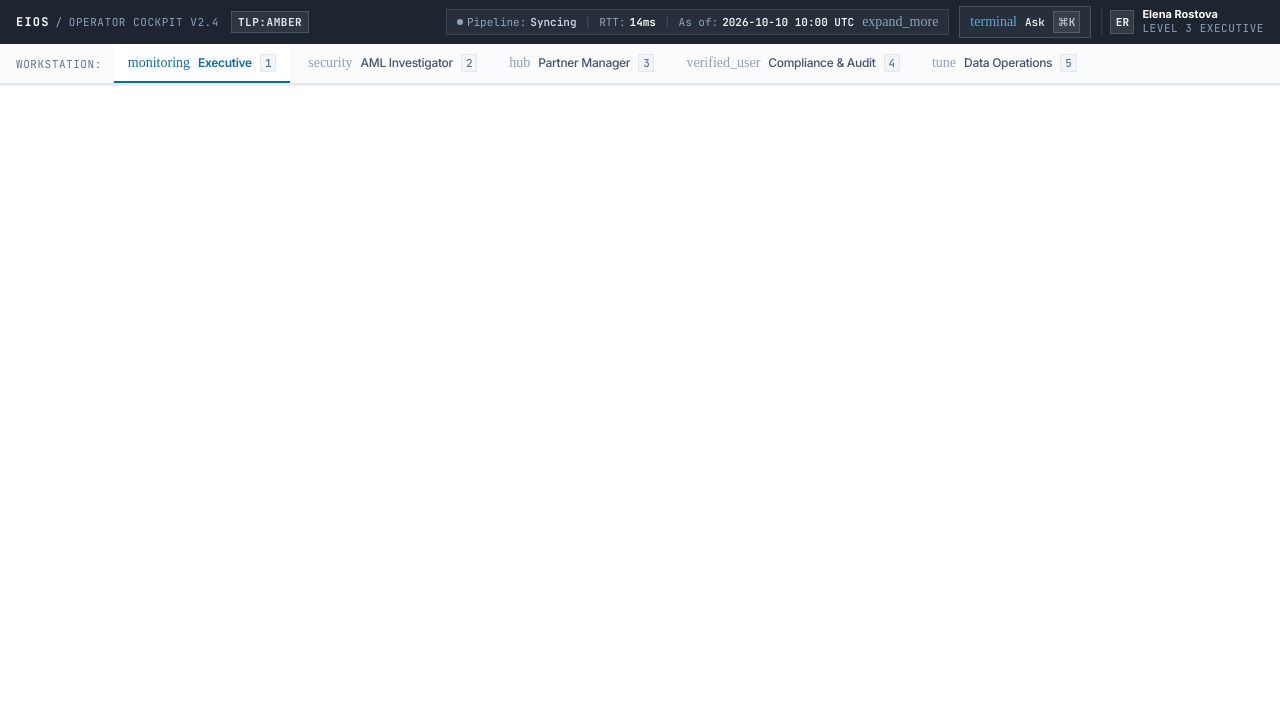
System status dialog (replaces the canvas "Diagnostics" tab) › opens from the header pipeline chip, which is a real button with dialog semantics
The width and height of the screenshot is (1280, 720).
Click the button with test id "header-pipeline-status". click: {"x": 497, "y": 22}
box: [446, 9, 949, 35]
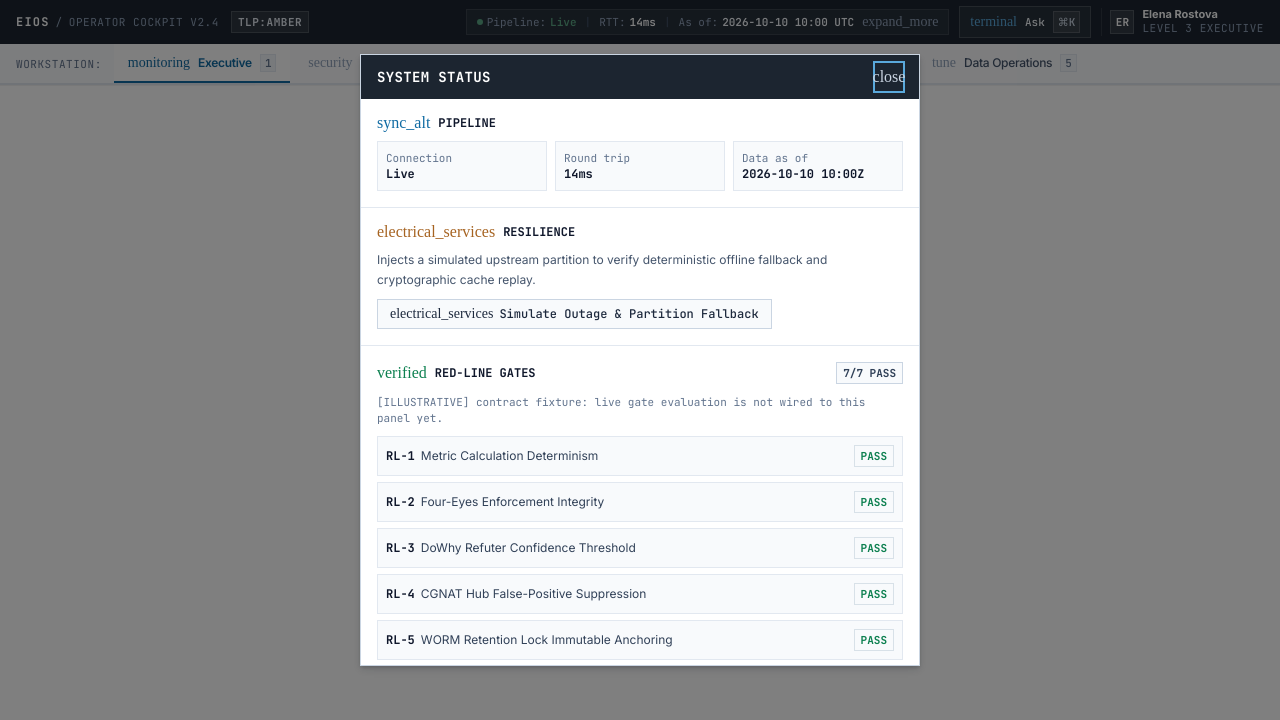
Expected: the heading "Pipeline" is shown, [377, 114, 496, 131]
